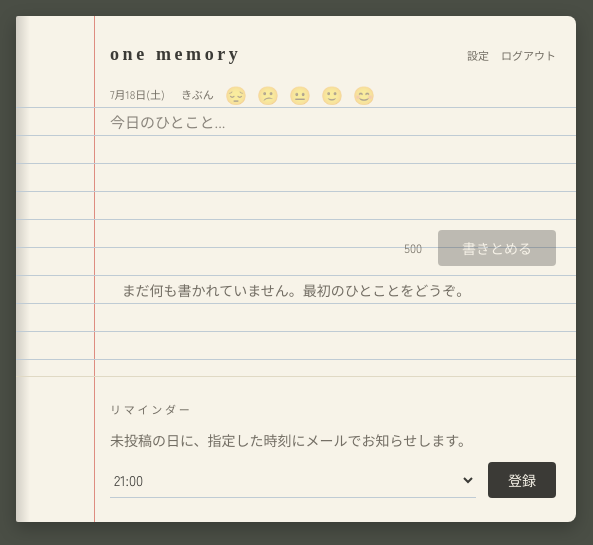
App › 今日の投稿がない場合 › API エラー時にエラーメッセージが表示される
Type "テスト" into the text box with placeholder "今日のひとこと...". click: {"x": 333, "y": 164}
box: [110,108,556,220]
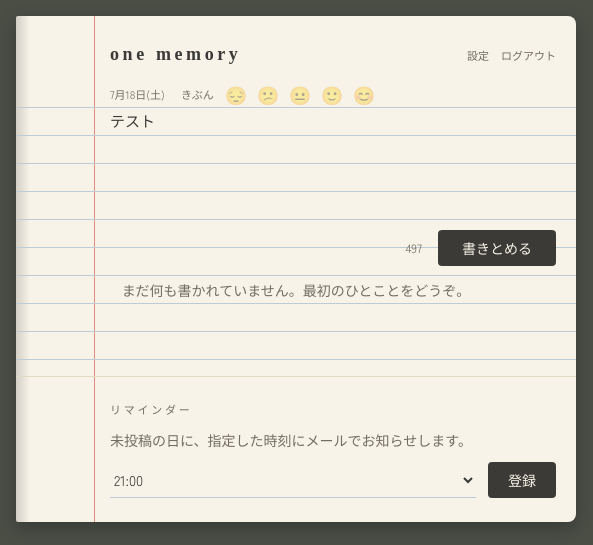
Click the button "書きとめる". click: {"x": 497, "y": 248}
box: [438,230,556,266]
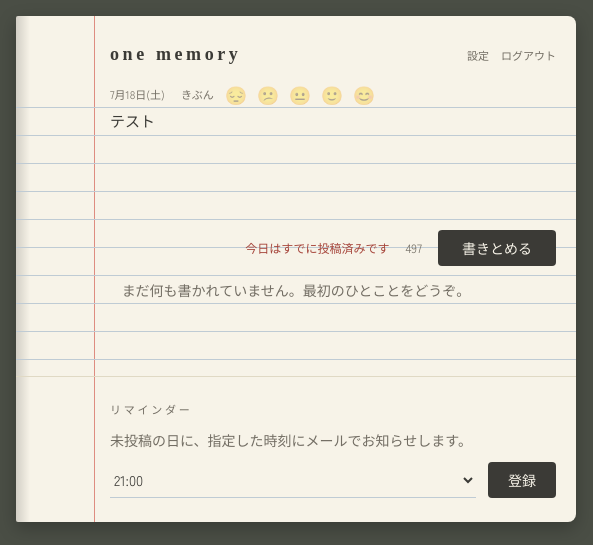
Now the text "今日はすでに投稿済みです" is shown, box [245,240,389,256]
